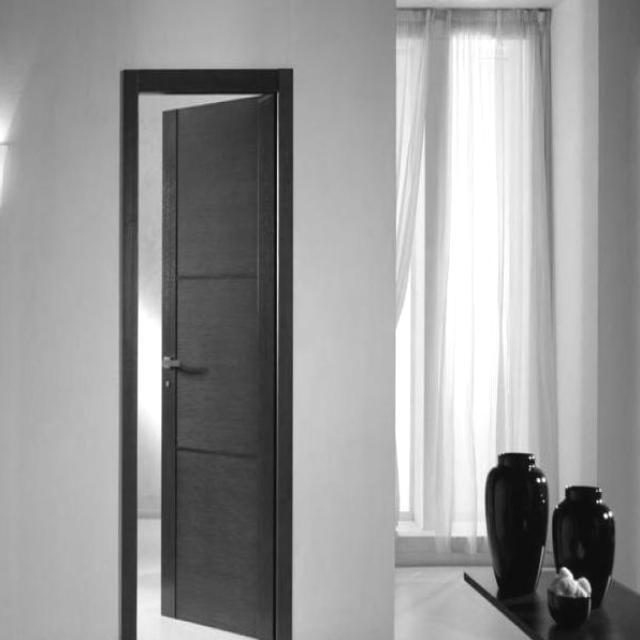door: (162, 86, 276, 640)
